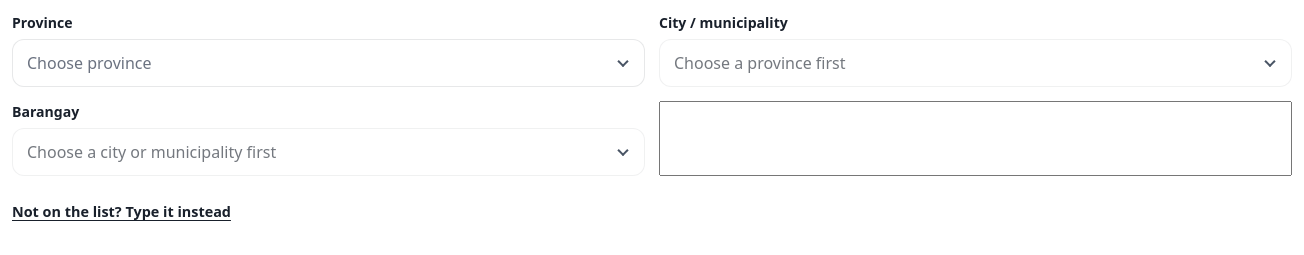
Test: PlaceFields when the map fills the text boxes › shows the names the map found
What coordinates should you click on to do the following:
click the button "Not on the list? Type it instead"
I would click on:
 (122, 212)
Its box is [12,190,231,234].
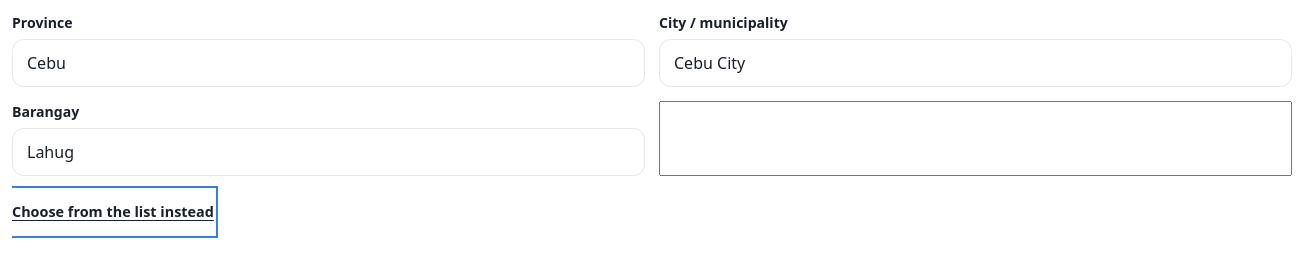
Expected: the field labelled "Province" holds "Cebu", [12,39,645,87]
Expected: the field labelled "City / municipality" holds "Cebu City", [659,39,1292,87]
Expected: the field labelled "Barangay" holds "Lahug", [12,128,645,176]
